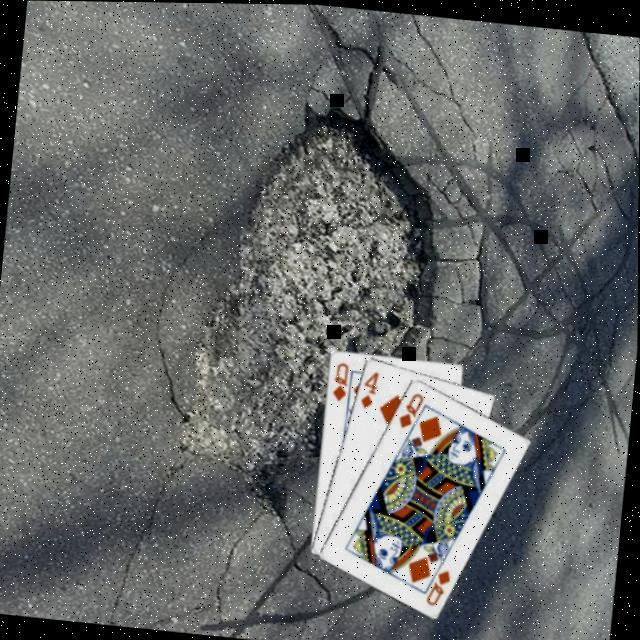4D: (359, 363, 384, 409)
QD: (396, 384, 429, 428), (425, 561, 457, 606), (330, 355, 354, 401)
